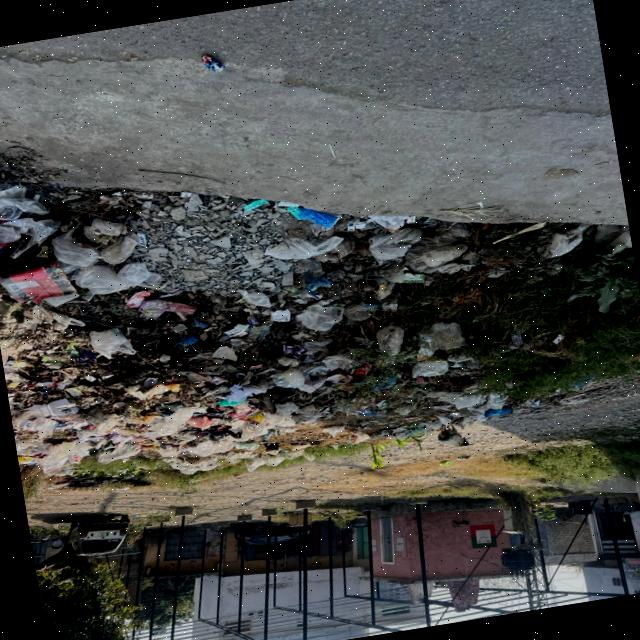garbage: (0, 153, 517, 500)
